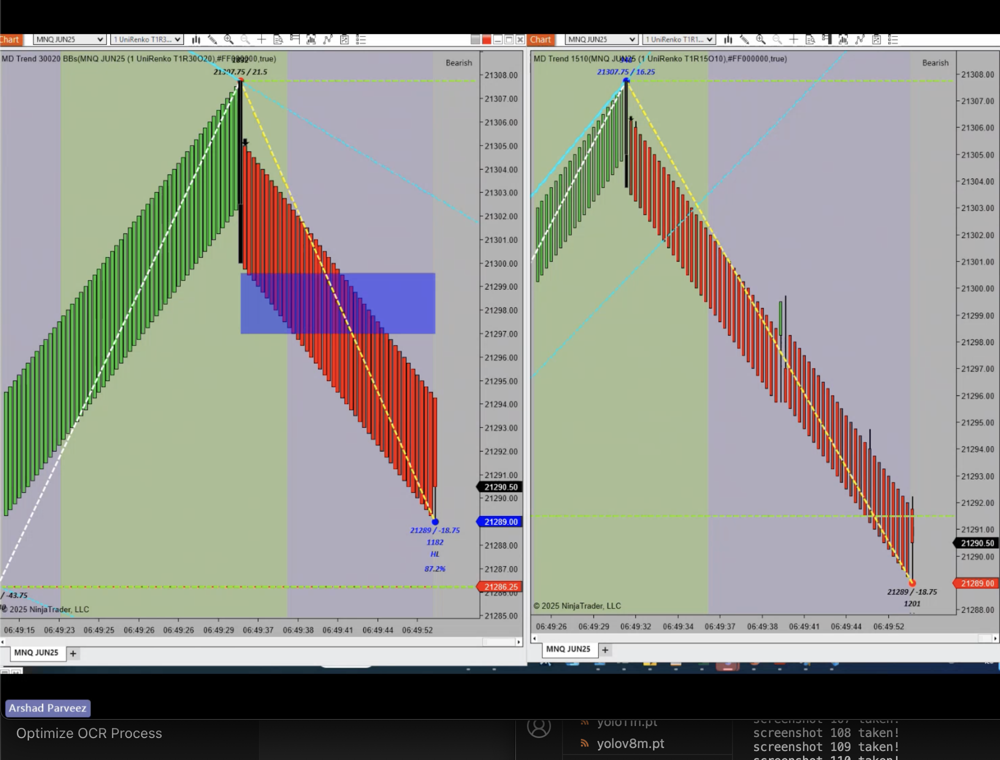HL: (424, 546, 447, 564)
